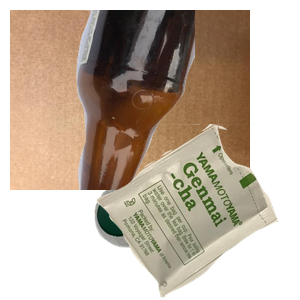cardboard: (10, 10, 250, 190)
glass: (60, 10, 300, 190)
plastic: (92, 176, 257, 300)
trash: (91, 124, 300, 300)
